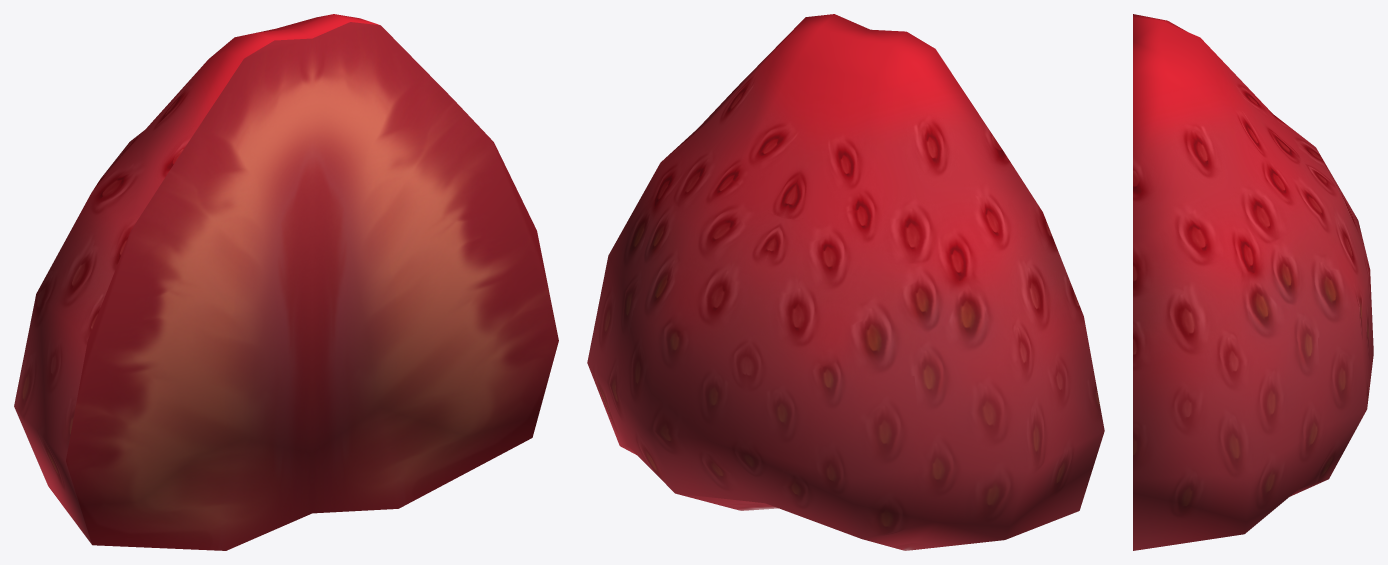
File: strawberryHalf.glb
3 renders of one model, left to right at view 1: azimuth 30°, elevation 25°; view 2: azimuth 150°, elevation 25°; view 3: azimuth 270°, elevation 25°, orthographic. The views are drawn at different scales.
Visible parts, largest first — view 1: strawberry_half; view 2: strawberry_half; view 3: strawberry_half.
Boxes of the visible parts, x1,y1,x2,y2 form: strawberry_half: (14, 14, 558, 550); strawberry_half: (587, 14, 1104, 550); strawberry_half: (1133, 14, 1373, 550).
Bounding box in the file's own units: 2.03 × 1.96 × 0.9414.
1 material, 1 textured.
